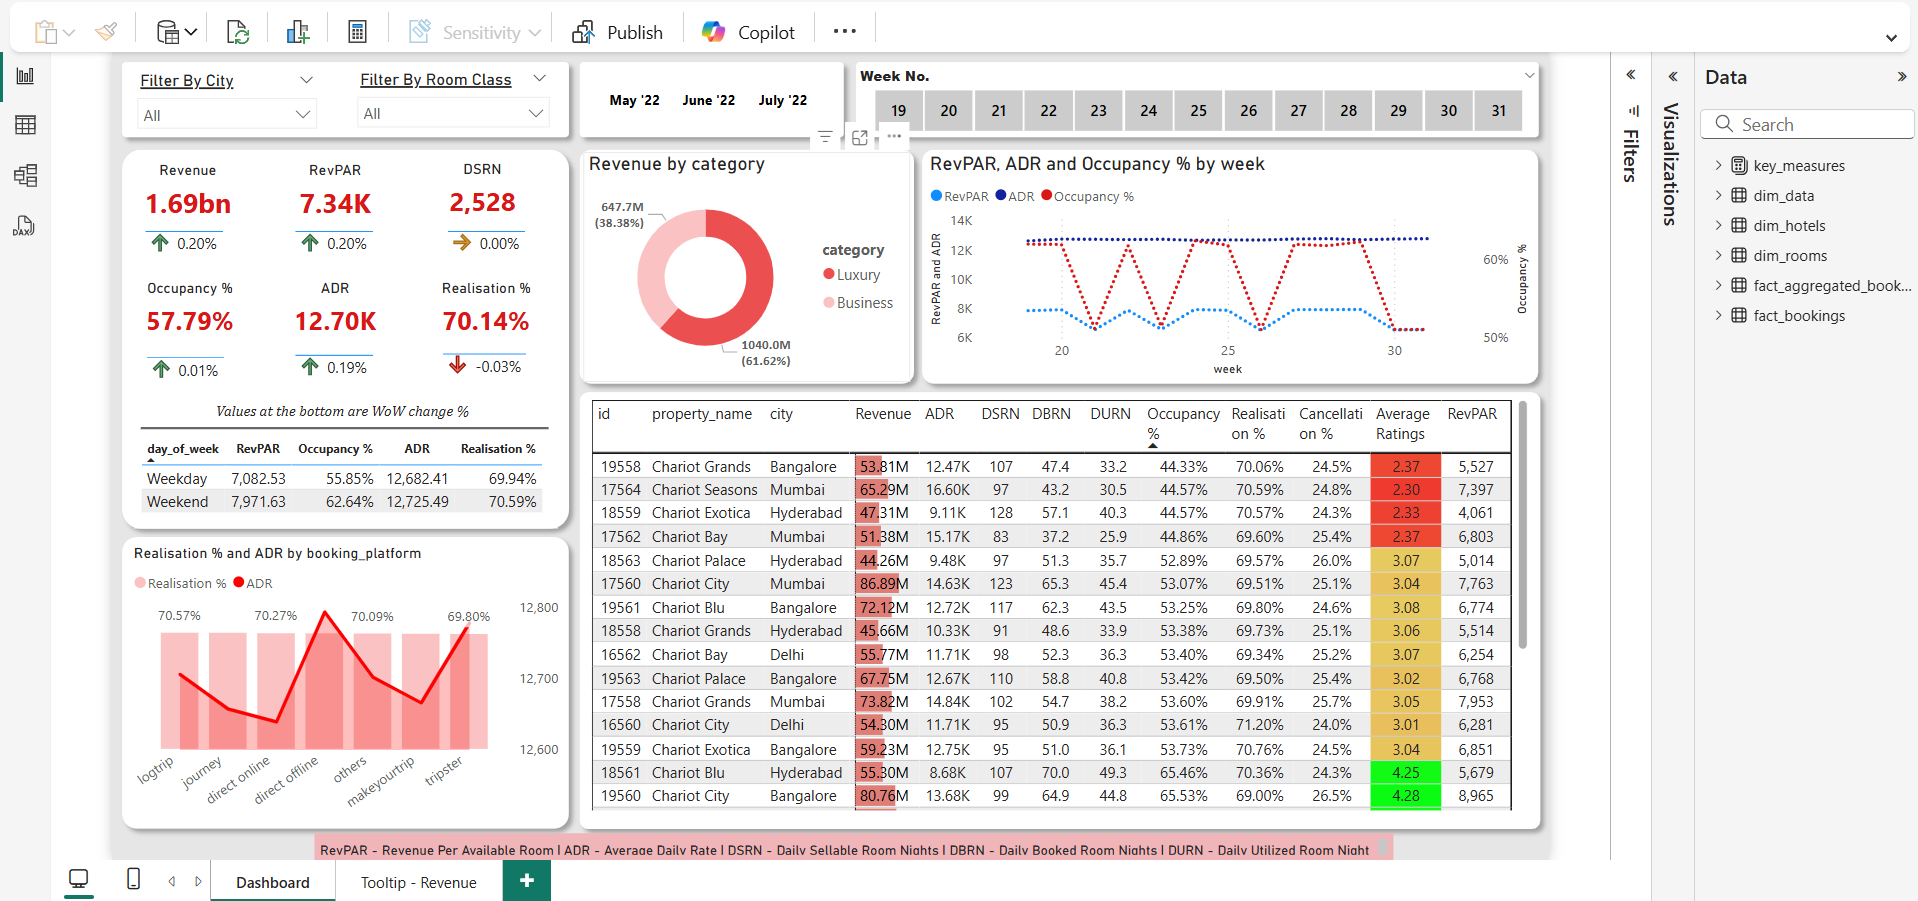

This screenshot's page, from the dashboard's own definition file:
{"tool":"powerbi","page":{"name":"Dashboard","canvas":[1280,720],"ordinal":0},"visuals":[{"type":"shape","box":[0,0,416.3,84.9],"z":0},{"type":"group","id":"g1","title":"Group 1","box":[1.4,97.7,133.1,103.2],"z":0,"group":"g7"},{"type":"group","id":"g2","title":"Group 5","box":[5.8,202.5,128.1,97],"z":0,"group":"g8"},{"type":"slicer","fields":{"Values":["dim_rooms.room_class"]},"box":[208.1,11.6,191.9,62.8],"z":1000},{"type":"group","id":"g3","title":"Group 2","box":[134.5,97.7,128.1,89.6],"z":1000,"group":"g7"},{"type":"group","id":"g4","title":"Group 6","box":[135.2,202.5,128.1,97],"z":1000,"group":"g8"},{"type":"slicer","fields":{"Values":["dim_hotels.city"]},"box":[12.8,12.8,180.2,60.5],"z":2000},{"type":"group","id":"g5","title":"Group 3","box":[262.6,96.5,134.3,90.8],"z":2000,"group":"g7"},{"type":"group","id":"g6","title":"Group 7","box":[269.5,202.5,128.1,95.8],"z":2000,"group":"g8"},{"type":"shape","box":[407,0,253.5,84.9],"z":3000},{"type":"shape","box":[653.2,0,626.7,84.9],"z":4000},{"type":"shape","box":[0,77.9,416.3,355.8],"z":5000},{"type":"slicer","fields":{"Values":["dim_data.mmm yy"]},"box":[407,10.5,246.5,65.1],"z":6000},{"type":"slicer","fields":{"Values":["dim_data.week"]},"box":[653.5,8.1,626.7,69.8],"z":7000},{"type":"group","id":"g7","title":"Group 4","box":[1.4,96.5,396.5,103.5],"z":8000},{"type":"tableEx","title":" ","fields":{"Values":["key_measures.RevPAR Wow % change"]},"box":[156.9,106.4,95.8,80.9],"z":8000,"group":"g3"},{"type":"card","title":"RevPAR","fields":{"Values":["key_measures.RevPAR"]},"box":[134.5,97.7,128.1,61],"z":9000,"group":"g3"},{"type":"group","id":"g8","title":"Group 8","box":[5.8,202.5,391.8,97],"z":9000},{"type":"tableEx","title":" ","fields":{"Values":["key_measures.ADR WoW % change"]},"box":[157.6,217.4,95.8,82.1],"z":10000,"group":"g4"},{"type":"group","id":"g9","title":"Group 9","box":[25.4,304.7,363.2,34.8],"z":10000},{"type":"tableEx","title":" ","fields":{"Values":["key_measures.Occupancy WoW % change"]},"box":[24.5,218.7,93.3,80.9],"z":11000,"group":"g2"},{"type":"tableEx","fields":{"Values":["dim_data.day_of_week","key_measures.RevPAR","key_measures.Occupancy %","key_measures.ADR","key_measures.Realisation %"]},"box":[19.8,339.5,376.7,84.9],"z":11000},{"type":"tableEx","title":" ","fields":{"Values":["key_measures.DSRN WoW % change"]},"box":[292.5,106.5,84.6,80.9],"z":12000,"group":"g5"},{"type":"shape","box":[0,423.3,416.3,277.9],"z":12000},{"type":"shape","box":[712.8,77.9,567.4,226.7],"z":13000},{"type":"tableEx","title":" ","fields":{"Values":["key_measures.Realisation WoW % change"]},"box":[288.2,216.2,94.5,82.1],"z":13000,"group":"g6"},{"type":"lineChart","fields":{"Category":["dim_data.week"],"Y":["key_measures.RevPAR","key_measures.ADR"],"Y2":["key_measures.Occupancy %"]},"box":[723.3,89.5,543,204.7],"z":14000},{"type":"card","title":"ADR","fields":{"Values":["key_measures.ADR"]},"box":[135.2,202.5,128.1,61],"z":14000,"group":"g4"},{"type":"shape","box":[407,77.9,316.3,226.7],"z":15000},{"type":"card","title":"Realisation %","fields":{"Values":["key_measures.Realisation %"]},"box":[269.5,202.5,128.1,61],"z":15000,"group":"g6"},{"type":"tableEx","title":" ","fields":{"Values":["key_measures.Revenue WoW change %"]},"box":[23.8,106.4,93.3,94.5],"z":16000,"group":"g1"},{"type":"shape","box":[407,294.2,873.3,407],"z":16000},{"type":"donutChart","fields":{"Y":["key_measures.Revenue"],"Category":["dim_hotels.category"]},"box":[419.8,89.5,291.9,204.7],"z":17000},{"type":"card","title":"Revenue","fields":{"Values":["key_measures.Revenue"]},"box":[1.4,97.7,133.1,61],"z":17000,"group":"g1"},{"type":"card","title":"Occupancy %","fields":{"Values":["key_measures.Occupancy %"]},"box":[5.8,202.5,128.1,61],"z":18000,"group":"g2"},{"type":"lineClusteredColumnComboChart","fields":{"Category":["fact_bookings.booking_platform"],"Y":["key_measures.Realisation %"],"Y2":["key_measures.ADR"]},"box":[14,438.4,388.4,251.2],"z":18000},{"type":"card","title":"DSRN","fields":{"Values":["key_measures.DSRN"]},"box":[262.6,96.5,134.3,61],"z":19000,"group":"g5"},{"type":"tableEx","fields":{"Values":["dim_hotels.property_id","dim_hotels.property_name","dim_hotels.city","key_measures.Revenue","key_measures.ADR(Average Daiy Rate)","key_measures.DSRN (Daily Sellable Room Nights)","key_measures.DBRN (Daily Booked Room Nights)","key_measures.DURN (Daily Utilized Room Nights)","key_measures.Occupancy %","key_measures.Realisation %","key_measures.Cancellation %","key_measures.Average Ratings"]},"box":[420.9,304.7,845.4,375.6],"z":19000},{"type":"shape","box":[25.4,330.8,363.2,8.7],"z":20000,"group":"g9"},{"type":"textbox","box":[180.2,695.4,960.5,22],"z":20000},{"type":"textbox","box":[67.7,304.7,274.9,28.6],"z":21000,"group":"g9"}]}

Visuals, with their boxes on the page's 1280x720 design canvas (x1, y1, x2, y2). These are canvas units, not pixel positions in the 1918x901 screenshot, which may show the page scaled, cropped or inside an application window:
shape: 0,0,416,85
"Group 1" group: 1,98,134,201
"Group 5" group: 6,202,134,300
slicer - dim_rooms.room_class: 208,12,400,74
"Group 2" group: 134,98,263,187
"Group 6" group: 135,202,263,300
slicer - dim_hotels.city: 13,13,193,73
"Group 3" group: 263,96,397,187
"Group 7" group: 270,202,398,298
shape: 407,0,660,85
shape: 653,0,1280,85
shape: 0,78,416,434
slicer - dim_data.mmm yy: 407,10,654,76
slicer - dim_data.week: 654,8,1280,78
"Group 4" group: 1,96,398,200
" " tableEx: 157,106,253,187
"RevPAR" card: 134,98,263,159
"Group 8" group: 6,202,398,300
" " tableEx: 158,217,253,300
"Group 9" group: 25,305,389,340
" " tableEx: 24,219,118,300
tableEx - dim_data.day_of_week x key_measures.RevPAR: 20,340,396,424
" " tableEx: 292,106,377,187
shape: 0,423,416,701
shape: 713,78,1280,305
" " tableEx: 288,216,383,298
lineChart - dim_data.week x key_measures.RevPAR: 723,90,1266,294
"ADR" card: 135,202,263,264
shape: 407,78,723,305
"Realisation %" card: 270,202,398,264
" " tableEx: 24,106,117,201
shape: 407,294,1280,701
donutChart - key_measures.Revenue x dim_hotels.category: 420,90,712,294
"Revenue" card: 1,98,134,159
"Occupancy %" card: 6,202,134,264
lineClusteredColumnComboChart - fact_bookings.booking_platform x key_measures.Realisation %: 14,438,402,690
"DSRN" card: 263,96,397,158
tableEx - dim_hotels.property_id x dim_hotels.property_name: 421,305,1266,680
shape: 25,331,389,340
textbox: 180,695,1141,717
textbox: 68,305,343,333
